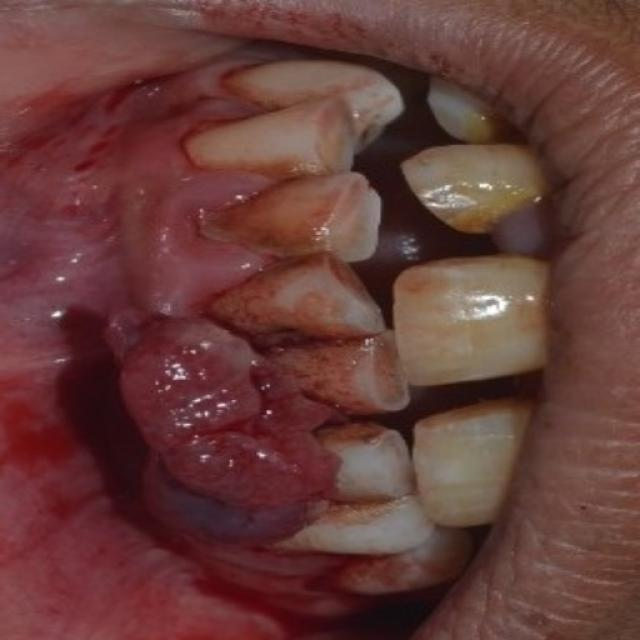cancer-detection: (101, 306, 345, 512)
processing_area: (0, 0, 372, 638)
